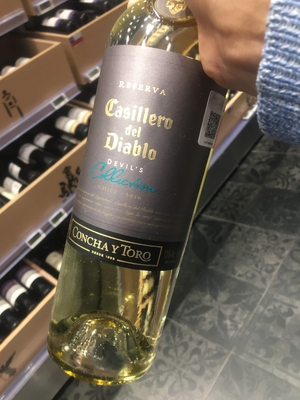casillero del diablo devils collection verde: (64, 3, 236, 365)
